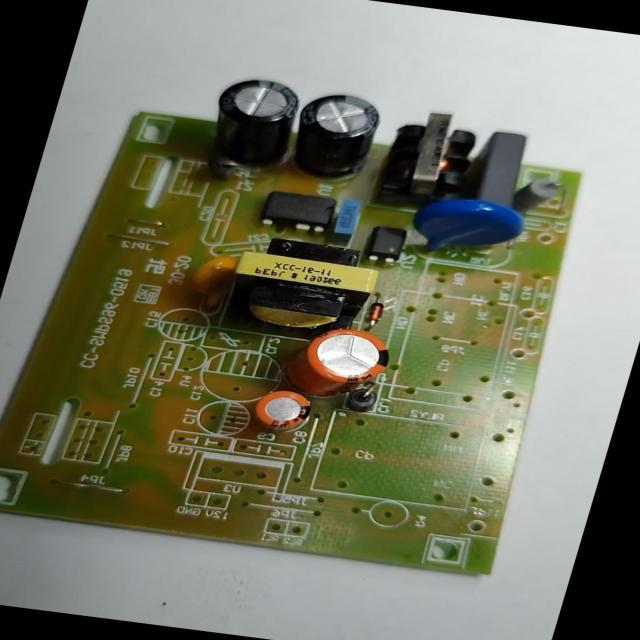Cap1: (281, 322, 398, 408)
Cap2: (247, 387, 317, 433)
Cap3: (284, 89, 386, 183)
Cap4: (202, 72, 304, 169)
MOSFET: (253, 186, 343, 234)
Mov: (401, 190, 534, 268)
Resistor: (513, 172, 568, 212)
Transformer: (213, 232, 389, 340), (370, 106, 484, 216)
